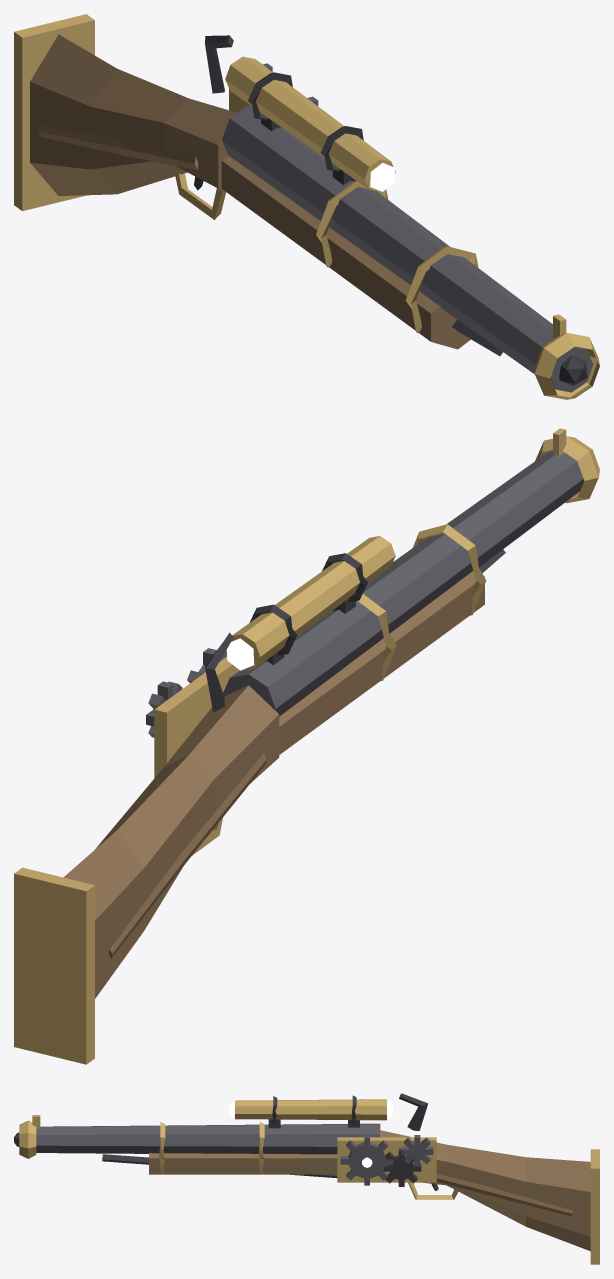
The model's file is engine-weapon.glb.
The picture shows the model from 3 angles, top to bottom: view 1: azimuth 30°, elevation 25°; view 2: azimuth 150°, elevation 25°; view 3: azimuth 270°, elevation 25°; orthographic projection. The views are drawn at different scales.
Parts seen in each view (by area): view 1: gun_body; view 2: gun_body; view 3: gun_body.
Part boxes in pixels (x1,y1,x2,y2): gun_body: (14, 14, 599, 399); gun_body: (14, 428, 599, 1064); gun_body: (14, 1093, 599, 1264).
Bounding box in the file's own units: 0.1005 × 0.2696 × 0.8859.
